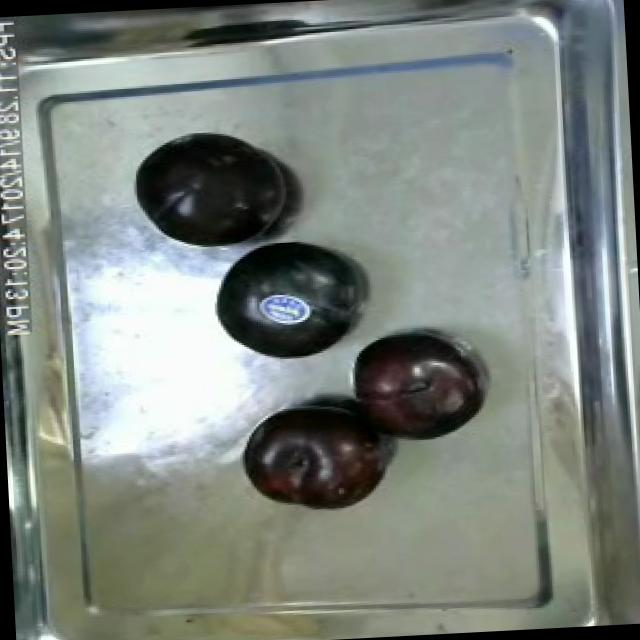Fruit: (121, 123, 296, 262), (206, 230, 370, 370), (234, 392, 400, 516), (343, 319, 483, 446)
